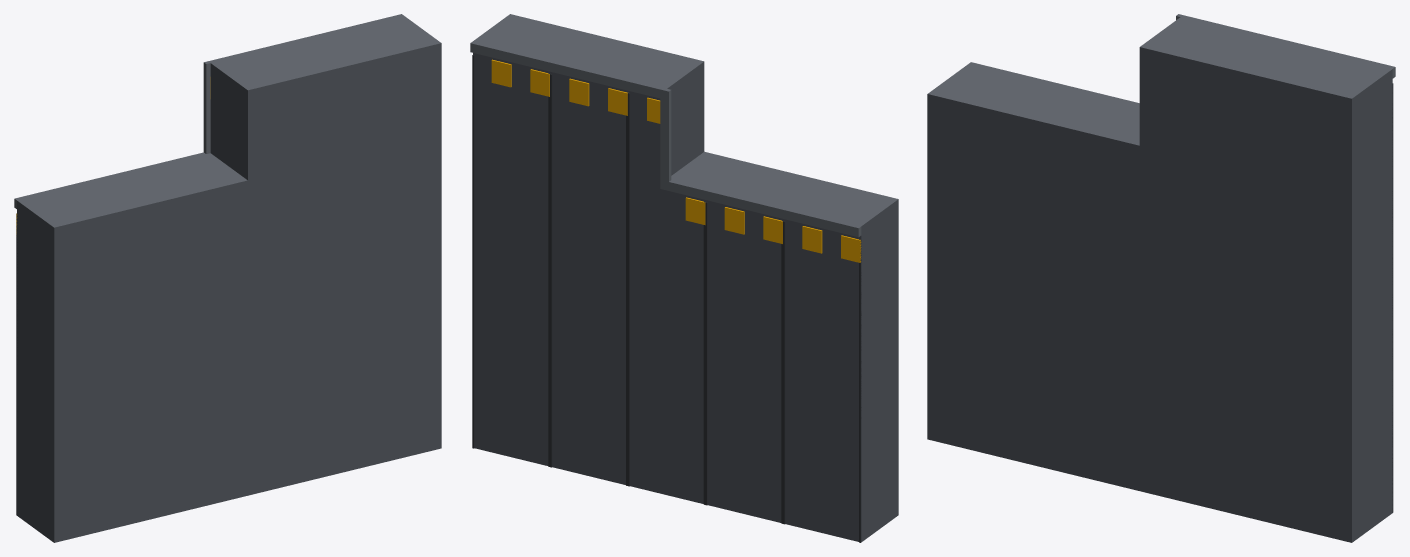
3 views of the same model, side by side, from view 1: azimuth 30°, elevation 25°; view 2: azimuth 150°, elevation 25°; view 3: azimuth 330°, elevation 25° (orthographic). The views are drawn at different scales.
Parts seen in each view (by area): view 1: s2w; view 2: s2w; view 3: s2w.
Part boxes in pixels (x1,y1,x2,y2): s2w: [14, 14, 441, 542]; s2w: [470, 14, 898, 542]; s2w: [927, 14, 1395, 542].
Size of the model in its own units: 9 by 9 by 1.6.
